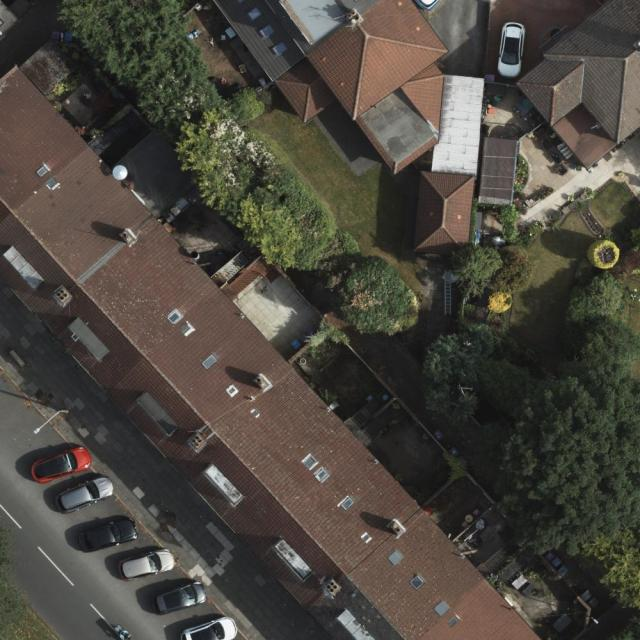roof: (0, 38, 547, 640), (215, 0, 449, 176), (515, 0, 640, 169), (410, 170, 476, 258)
skylight: (163, 305, 184, 326), (201, 350, 221, 372), (387, 546, 406, 568), (312, 465, 331, 485), (433, 597, 452, 617), (271, 39, 290, 58), (259, 22, 277, 41), (408, 574, 426, 592), (179, 320, 196, 339), (302, 452, 319, 471), (32, 163, 51, 179), (446, 611, 462, 629), (339, 494, 355, 511), (247, 6, 264, 22), (45, 175, 61, 191), (224, 382, 240, 397), (359, 529, 374, 545)
